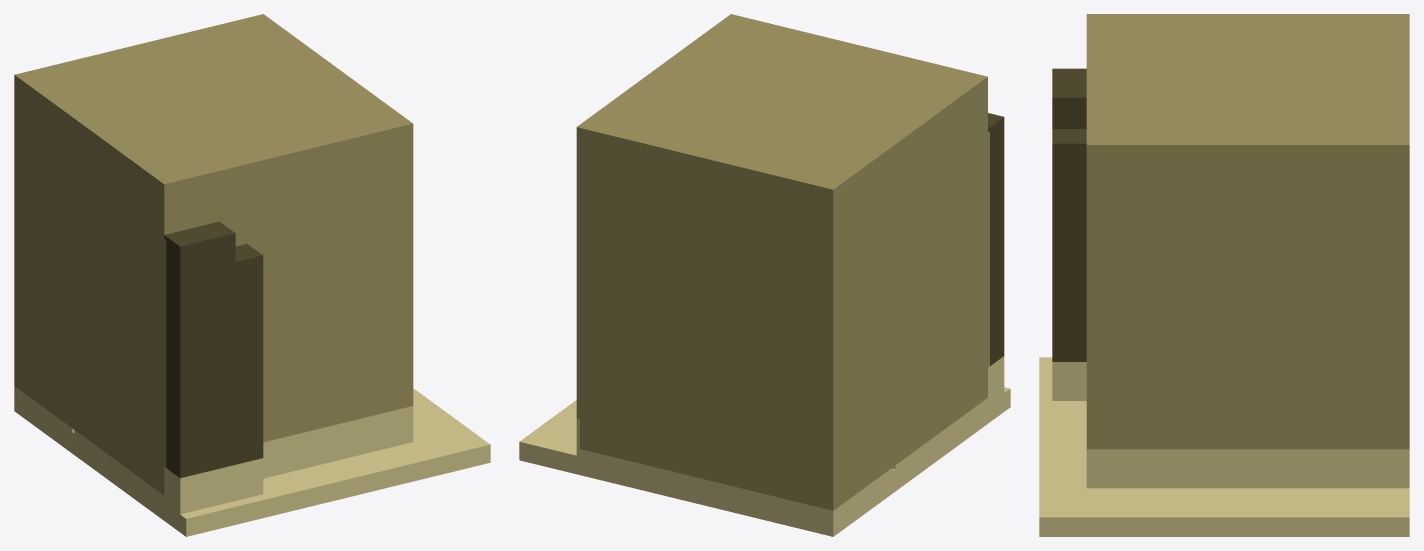
File: sandtower_1.0-6.obj
The picture shows the model from 3 angles, left to right: view 1: azimuth 30°, elevation 25°; view 2: azimuth 150°, elevation 25°; view 3: azimuth 270°, elevation 25°; orthographic projection. The views are drawn at different scales.
Size of the model in its own units: 17.6 by 18.6 by 17.2.
1 material, 1 textured.
